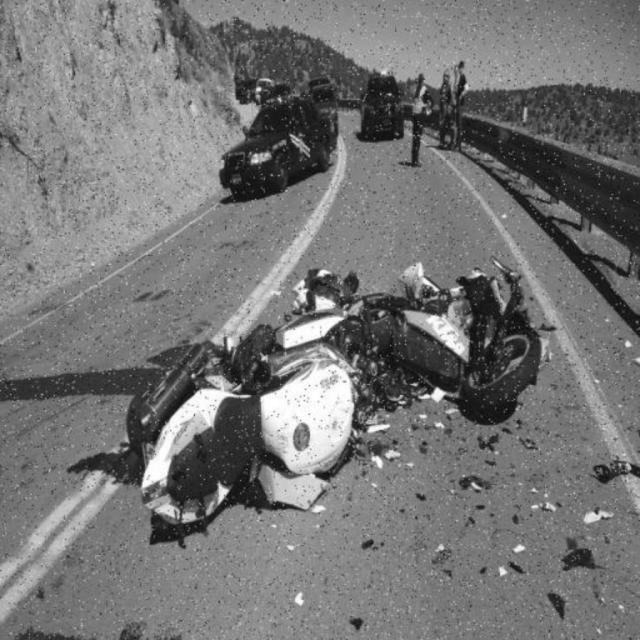accident: (121, 261, 541, 524)
person: (402, 69, 432, 170), (450, 58, 474, 151), (437, 58, 455, 138)
vehicle: (219, 84, 337, 196), (357, 67, 409, 135)
